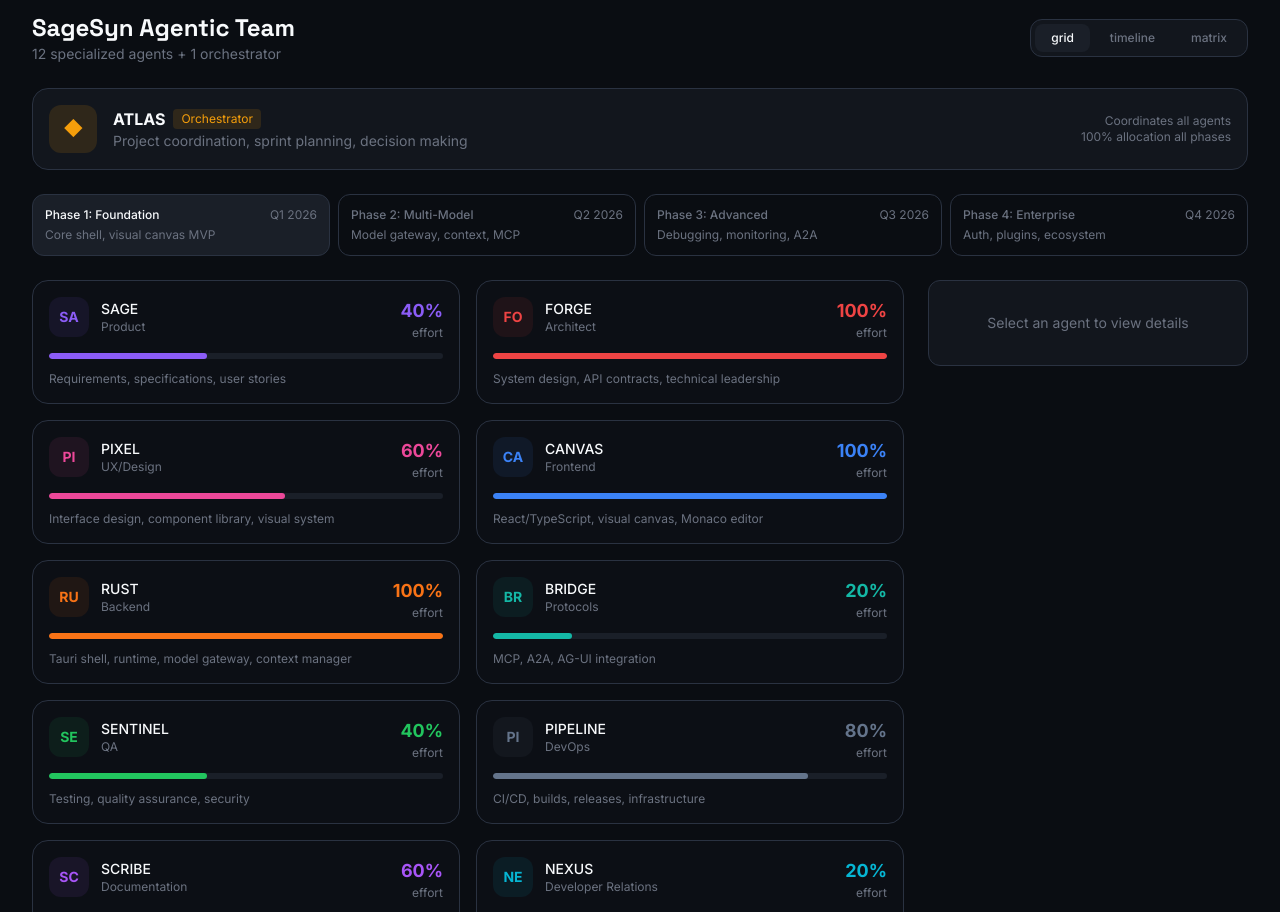
TeamDashboard component › shows agent detail when card is clicked
Click the text "ATLAS" at (640, 129), box [32, 88, 1248, 170]
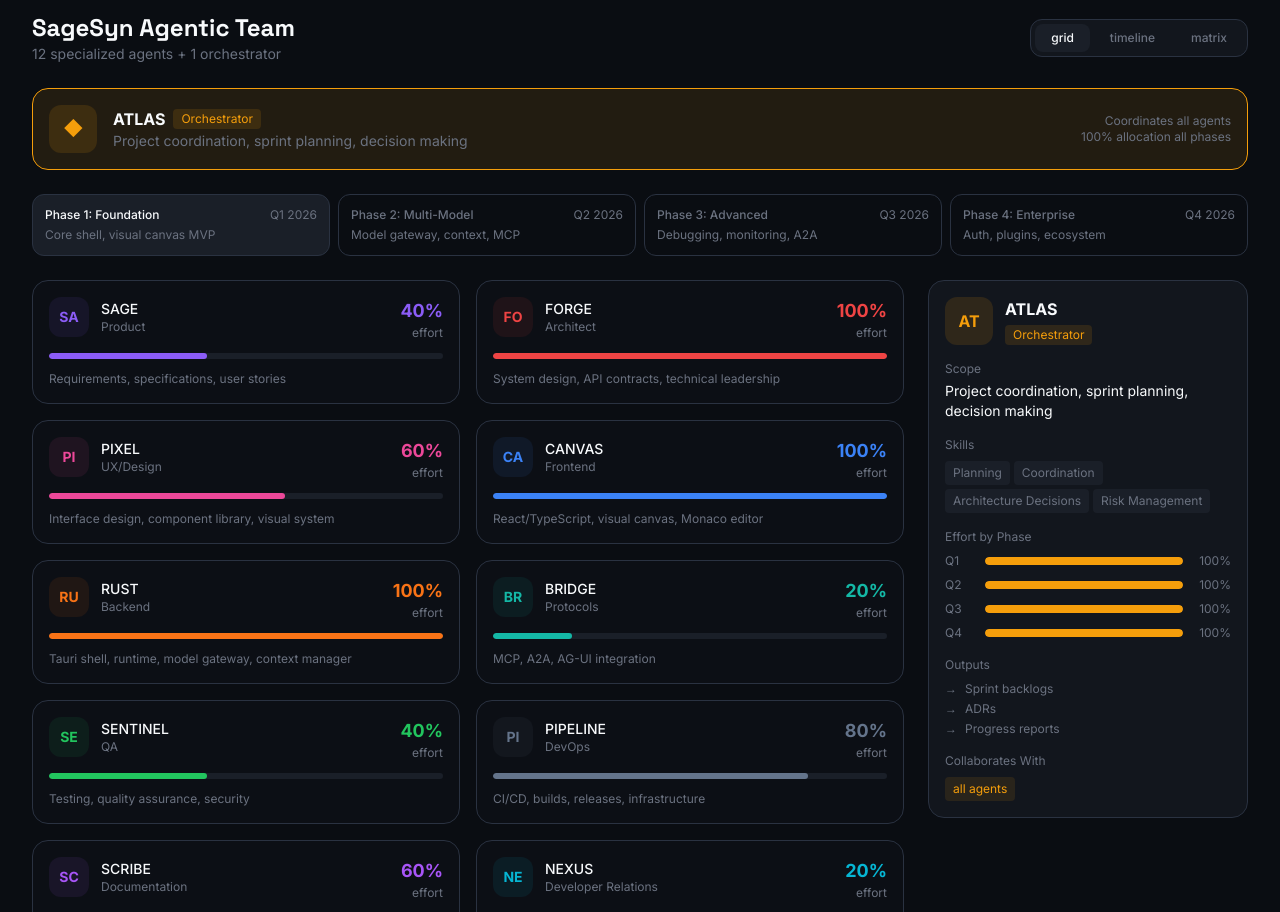
Expected: the text "Skills" is shown, [945, 437, 974, 452]
